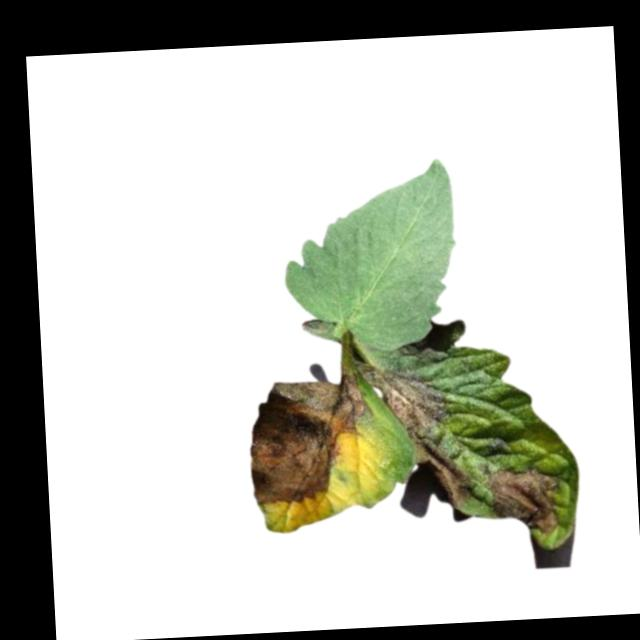Late_blight: (244, 366, 378, 508), (354, 360, 473, 513), (482, 463, 563, 538)
healthy: (278, 156, 462, 355)
